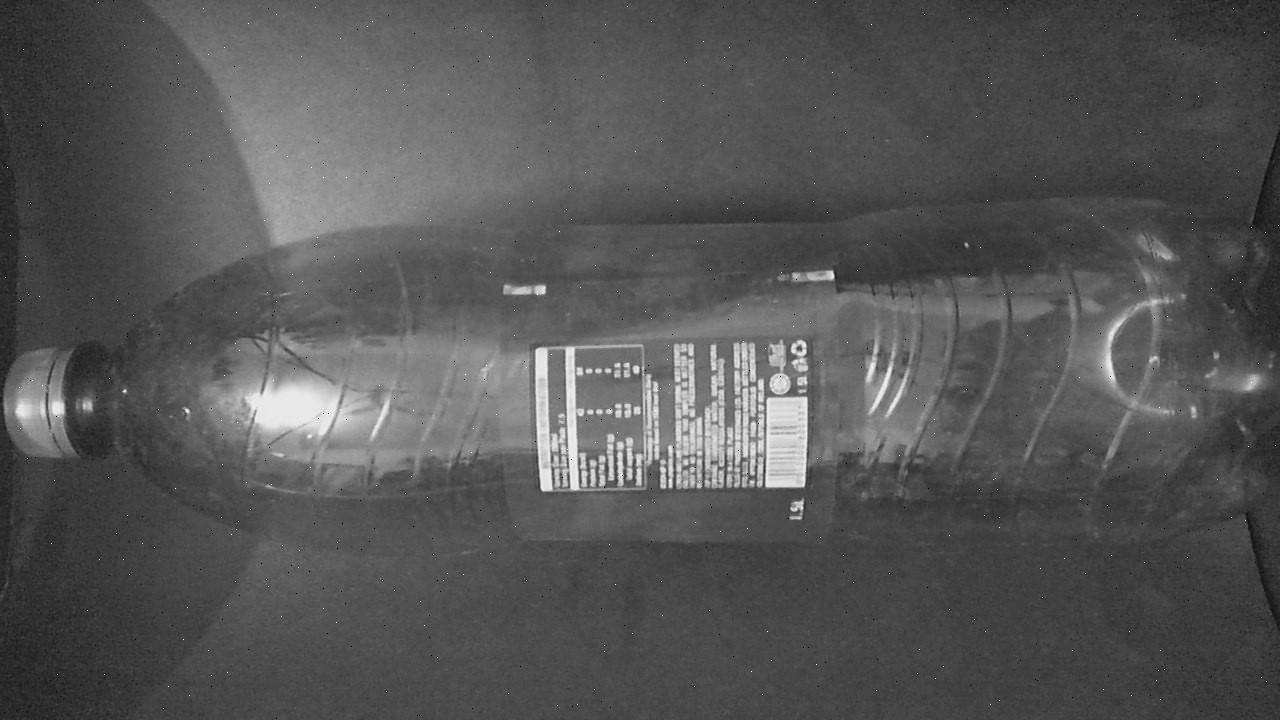bottle: (0, 196, 1280, 618)
